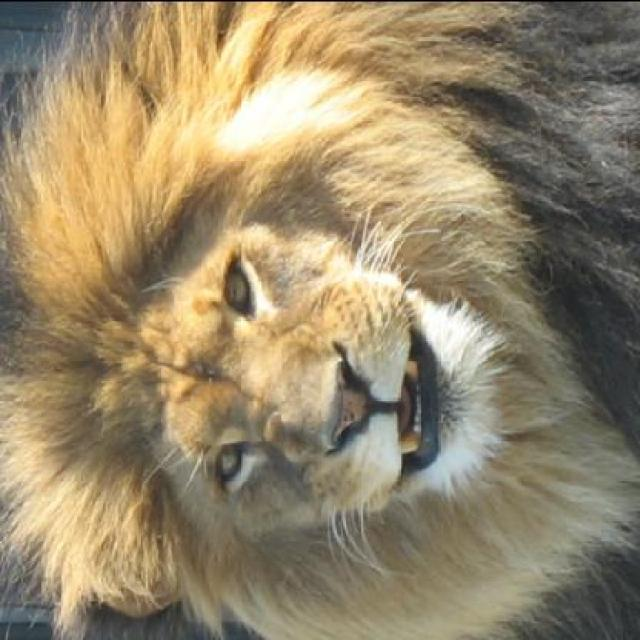Lion: (6, 4, 639, 634)
